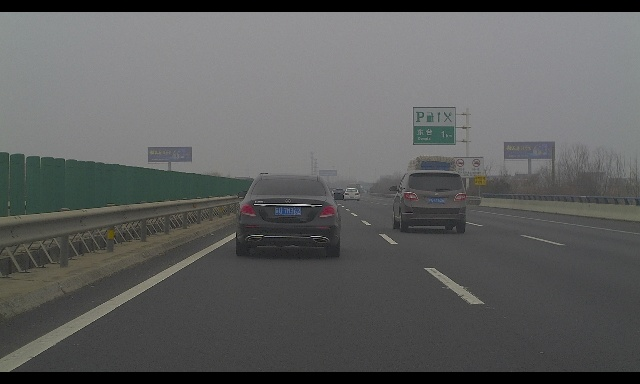car: (236, 173, 344, 257), (389, 170, 466, 233), (343, 188, 360, 201), (334, 189, 344, 197)
truck: (407, 154, 456, 205), (347, 183, 357, 194), (353, 184, 363, 193)
